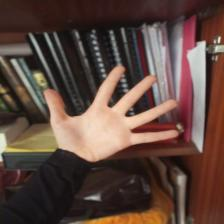five: (31, 61, 202, 180)
